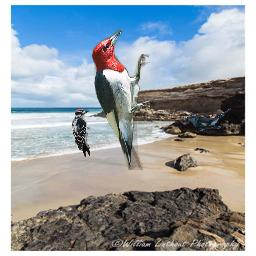Cuckoo: (185, 108, 232, 131)
Woodpecker: (91, 29, 150, 170), (71, 109, 90, 157)
